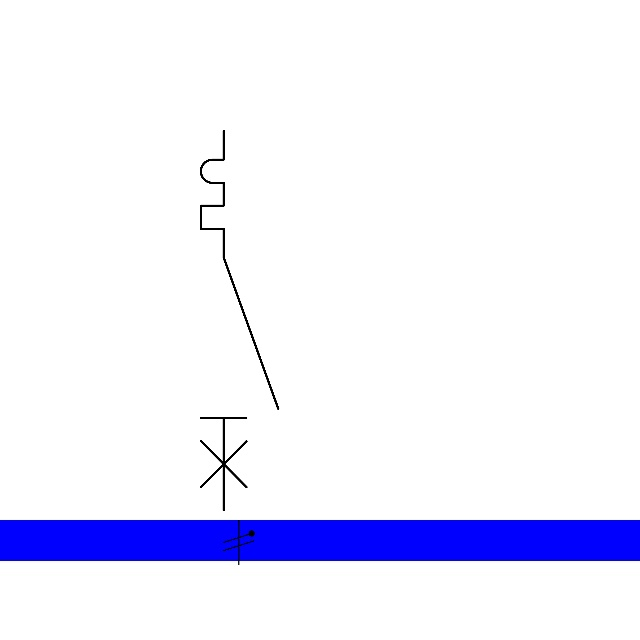interruptor_termomagnetico: (191, 121, 288, 519)
